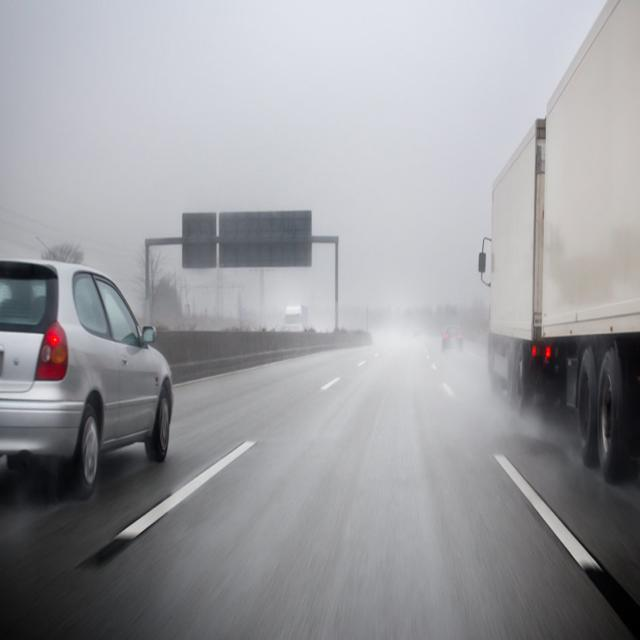bus: (486, 39, 638, 479), (283, 302, 309, 333)
car: (2, 261, 174, 495), (441, 322, 463, 350)
